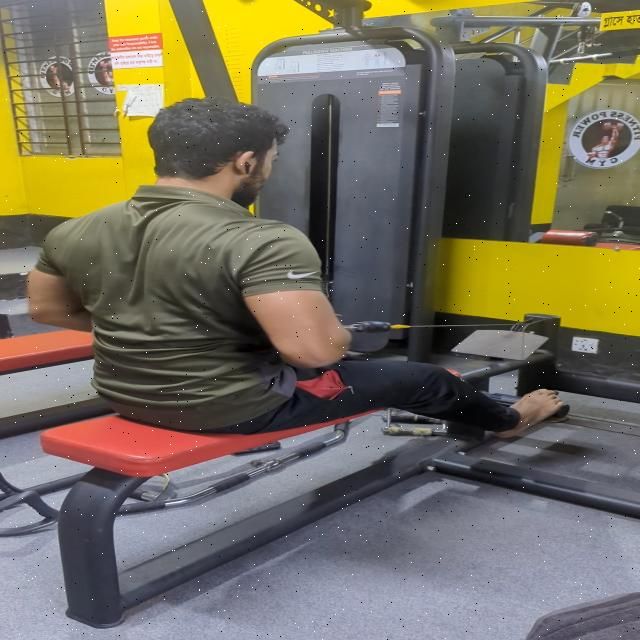Normal_RowingMachineExercise: (0, 84, 640, 526)
